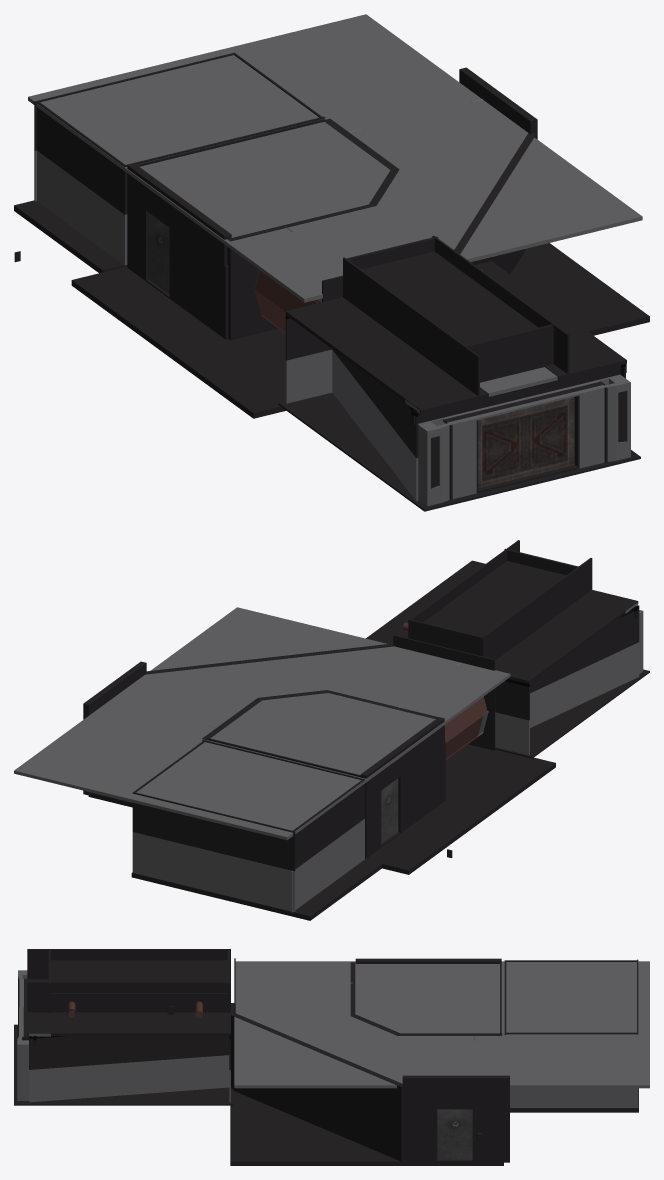
Rendered from SCP 966 Containment Chamber.obj.
The picture shows the model from 3 angles, top to bottom: view 1: azimuth 30°, elevation 25°; view 2: azimuth 150°, elevation 25°; view 3: azimuth 270°, elevation 25°; orthographic projection. The views are drawn at different scales.
Visible parts, largest first — view 1: Part16, Part18, Part151, Part140, Part146, Part139, Part182, Part79, Part181, Part153, Part143, Doormain6 (+22 smaller); view 2: Part16, Part18, Part178, Part177, Part151, Part140, Part153, Part146, Part182, Part181, Part79, Part154 (+17 smaller); view 3: Part16, Part15, Part18, Part158, Part141, Part157, Part143, Part140, Part20, Part146, Part139, Part180 (+7 smaller).
Part boxes in pixels (x1,y1,x2,y2): Part16: [28, 14, 642, 302]; Part18: [71, 243, 649, 418]; Part151: [285, 297, 488, 413]; Part140: [361, 251, 553, 357]; Part146: [343, 257, 479, 397]; Part139: [278, 392, 640, 511]; Part182: [37, 151, 126, 265]; Part79: [170, 227, 228, 339]; Part181: [36, 101, 126, 214]; Part153: [332, 350, 418, 501]; Part143: [475, 261, 626, 380]; Doormain6: [525, 396, 574, 476]; Part16: [14, 607, 510, 840]; Part18: [88, 744, 555, 874]; Part178: [132, 832, 295, 912]; Part177: [132, 792, 295, 871]; Part151: [495, 590, 638, 683]; Part140: [423, 561, 565, 636]; Part153: [530, 642, 639, 727]; Part146: [481, 558, 592, 660]; Part182: [291, 819, 364, 912]; Part181: [293, 779, 364, 868]; Part79: [401, 741, 445, 832]; Part154: [530, 609, 639, 693]; Part16: [234, 961, 649, 1088]; Part15: [231, 1013, 402, 1161]; Part18: [230, 1091, 503, 1165]; Part158: [29, 1055, 229, 1102]; Part141: [27, 982, 230, 1012]; Part157: [29, 1036, 229, 1069]; Part143: [27, 1012, 230, 1035]; Part140: [51, 960, 227, 994]; Part20: [402, 1075, 509, 1107]; Part146: [27, 949, 230, 979]; Part139: [14, 1024, 233, 1105]; Part180: [510, 1088, 637, 1107].
Size of the model in its own units: 50.91 by 14.8 by 81.82.
Materials: 29 (13 with a texture image).
